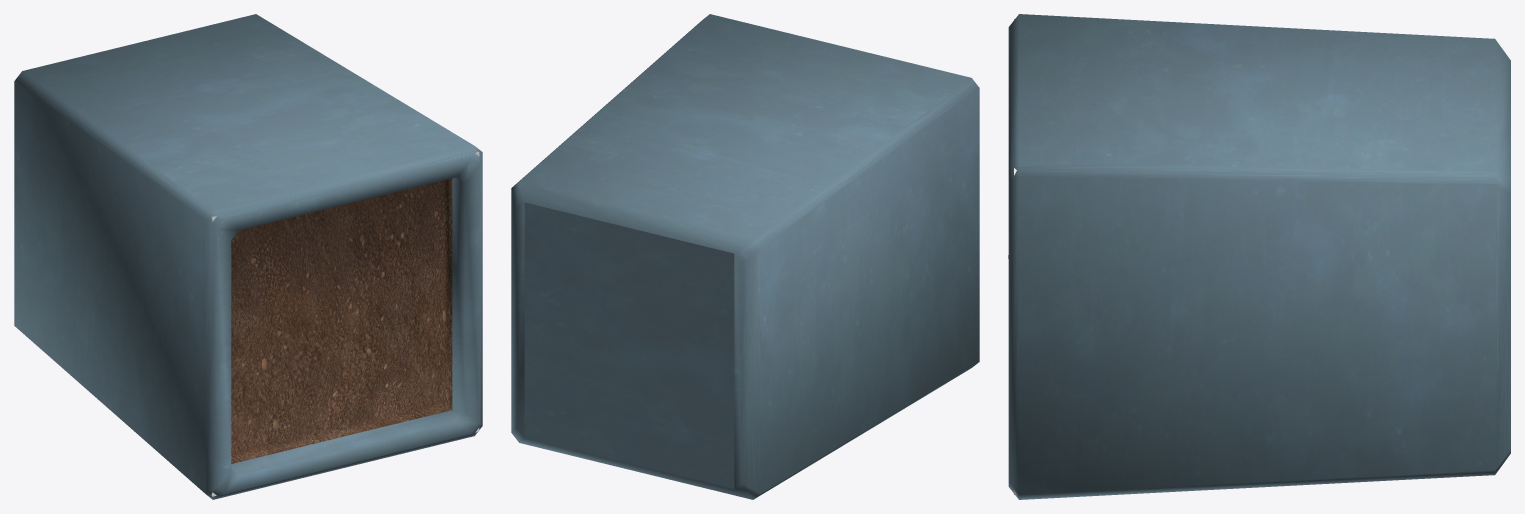
The model's file is p6_karma_pot_med_LOD1.obj.
The picture shows the model from 3 angles, left to right: view 1: azimuth 30°, elevation 25°; view 2: azimuth 150°, elevation 25°; view 3: azimuth 270°, elevation 25°; orthographic projection. The views are drawn at different scales.
Visible parts, largest first — view 1: glass_clear, core_dirt_dark; view 2: glass_clear; view 3: glass_clear.
Part boxes in pixels (x1=…): glass_clear: x1=14, y1=14, x2=482, y2=499; core_dirt_dark: x1=231, y1=178, x2=452, y2=463; glass_clear: x1=511, y1=14, x2=979, y2=499; glass_clear: x1=1008, y1=14, x2=1510, y2=499.
Size of the model in its own units: 45.27 by 45.27 by 61.12.
